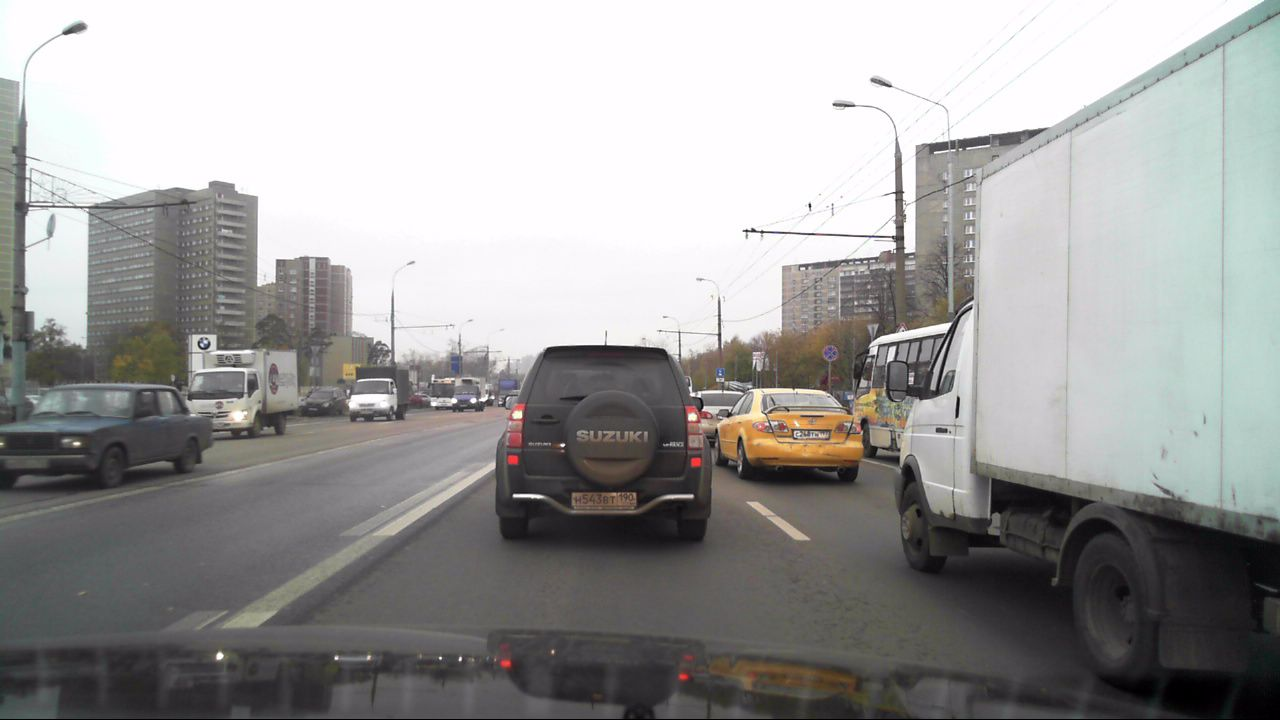No Parking: (822, 345, 839, 361)
